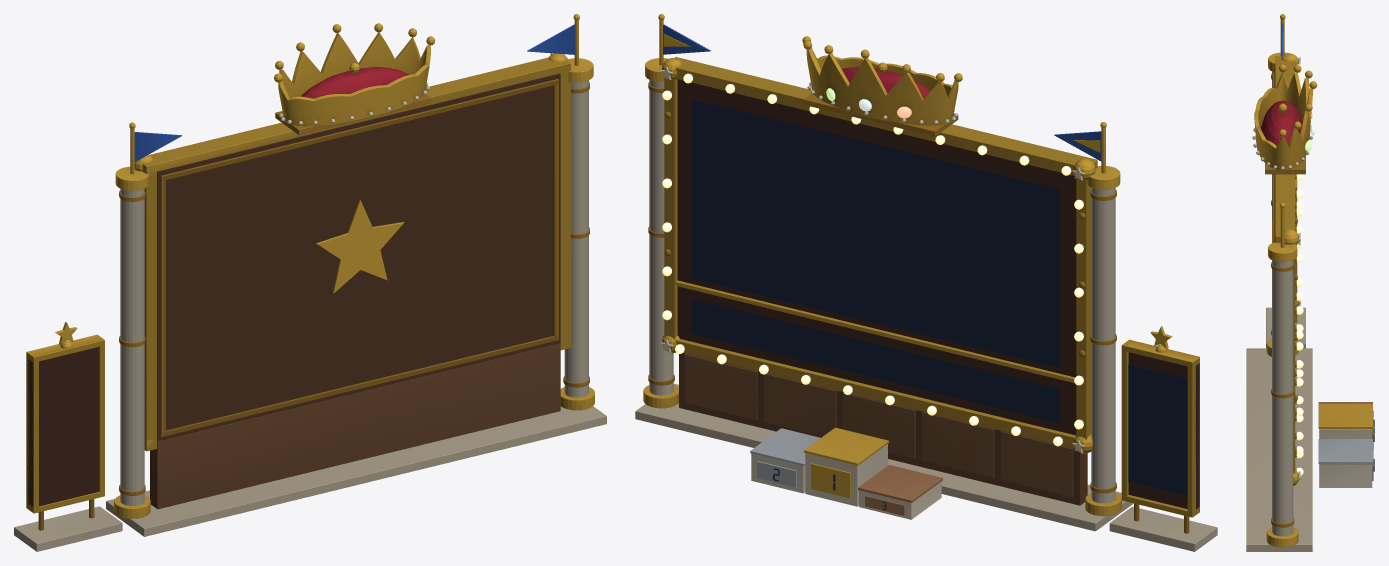
File: record_tower.glb
3 renders of one model, left to right at view 1: azimuth 30°, elevation 25°; view 2: azimuth 150°, elevation 25°; view 3: azimuth 270°, elevation 25°, orthographic. The views are drawn at different scales.
Visible parts, largest first — view 1: record_tower, flag_L, flag_R; view 2: record_tower, board_face, board_ticker, podium, board_honor, flag_L, flag_R; view 3: record_tower, podium.
Part boxes in pixels (x1=…): record_tower: x1=14, y1=14, x2=606, y2=551; flag_L: x1=527, y1=24, x2=575, y2=54; flag_R: x1=134, y1=132, x2=181, y2=161; record_tower: x1=635, y1=14, x2=1217, y2=551; board_face: x1=691, y1=99, x2=1059, y2=367; board_ticker: x1=691, y1=299, x2=1059, y2=422; podium: x1=750, y1=427, x2=942, y2=519; board_honor: x1=1128, y1=364, x2=1187, y2=495; flag_L: x1=663, y1=24, x2=710, y2=54; flag_R: x1=1054, y1=131, x2=1101, y2=161; record_tower: x1=1246, y1=14, x2=1317, y2=551; podium: x1=1318, y1=402, x2=1374, y2=487.
Bounding box in the file's own units: 8.55 × 6.18 × 1.94.
